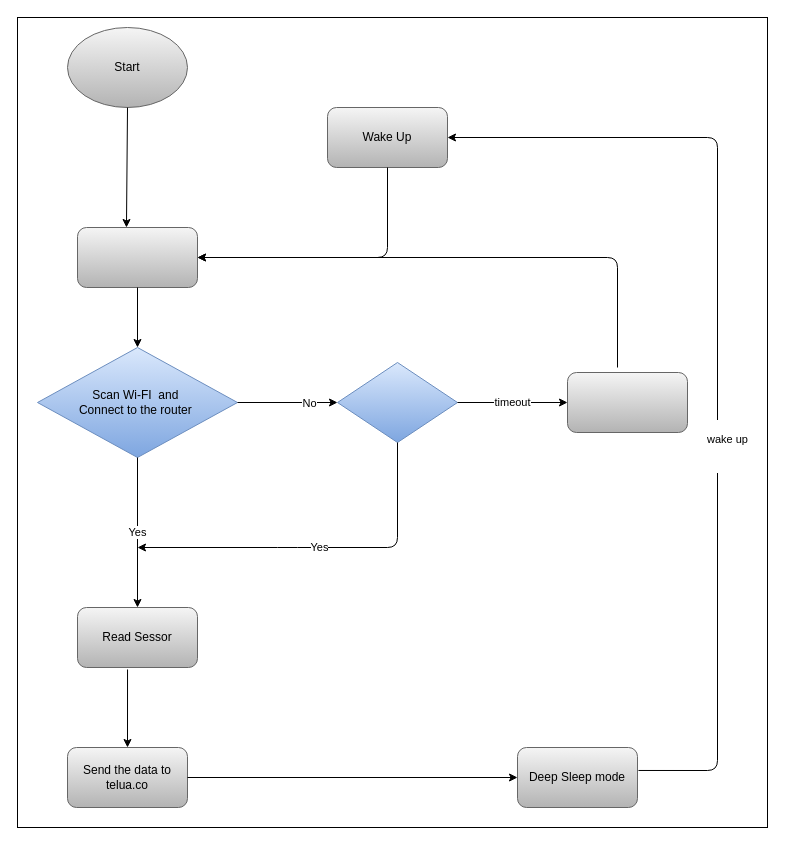
This 785x845 diagram has some shape labels left out. The box of each missing label's shape, as (x1, y1, x2, y2) in pixels:
Detect I2C sensor: (76, 226, 198, 288)
reboot: (566, 372, 688, 432)
Start smartConfig: (336, 362, 458, 442)
